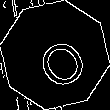O_NW: (23, 22, 87, 88)
